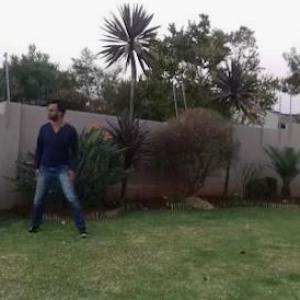follow: (34, 86, 77, 235)
